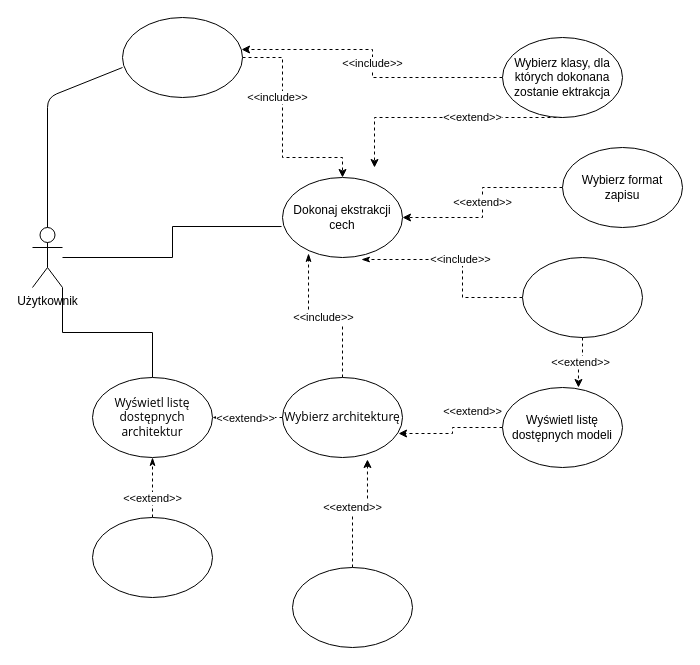
The diagram is 700 pixels wide and 665 high, and some of its shapes have lost their labels. Each missing label, with the centre of its shape:
Dodaj własny model: point 352,607
Dodaj własną architekturę: point 152,557
Wybierz dane: point 182,57
Wybierz model: point 582,297
